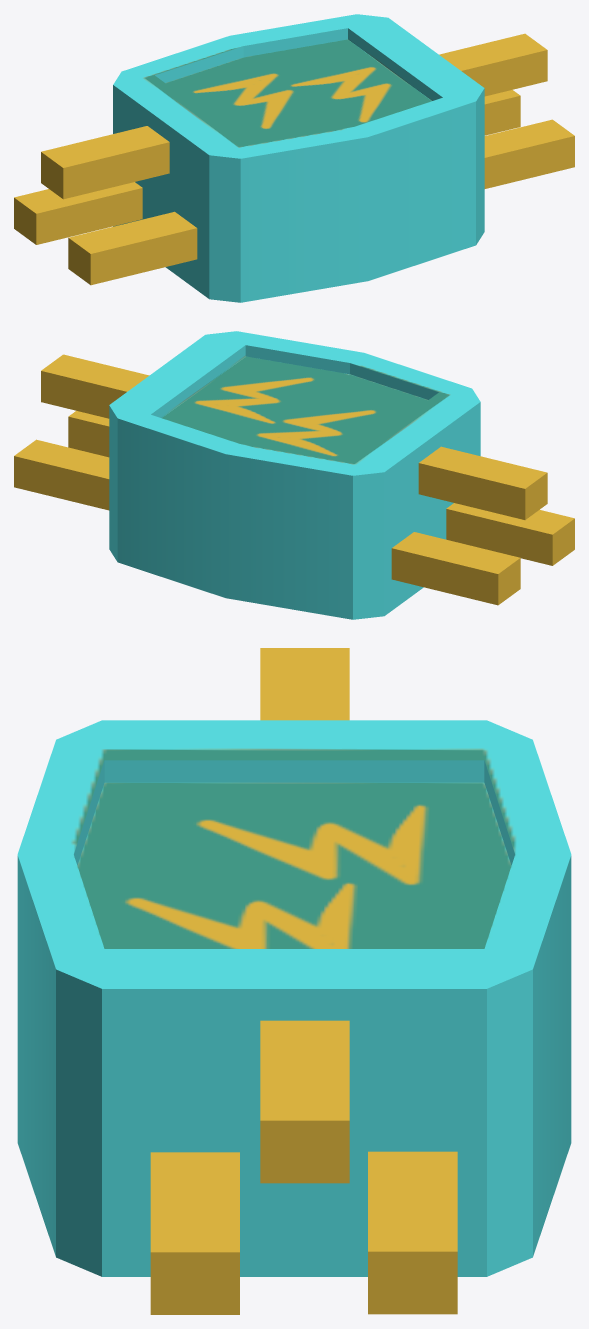
Rendered from FuentDePoder.FBX.
3 renders of one model, top to bottom at view 1: azimuth 30°, elevation 25°; view 2: azimuth 150°, elevation 25°; view 3: azimuth 270°, elevation 25°, orthographic. The views are drawn at different scales.
Visible parts, largest first — view 1: Núcleo; view 2: Núcleo; view 3: Núcleo.
Part boxes in pixels (<box>): Núcleo: <box>14,14,574,302</box>; Núcleo: <box>14,331,574,619</box>; Núcleo: <box>17,648,571,1314</box>.
Bounding box in the file's own units: 70.37 × 20 × 34.86.
